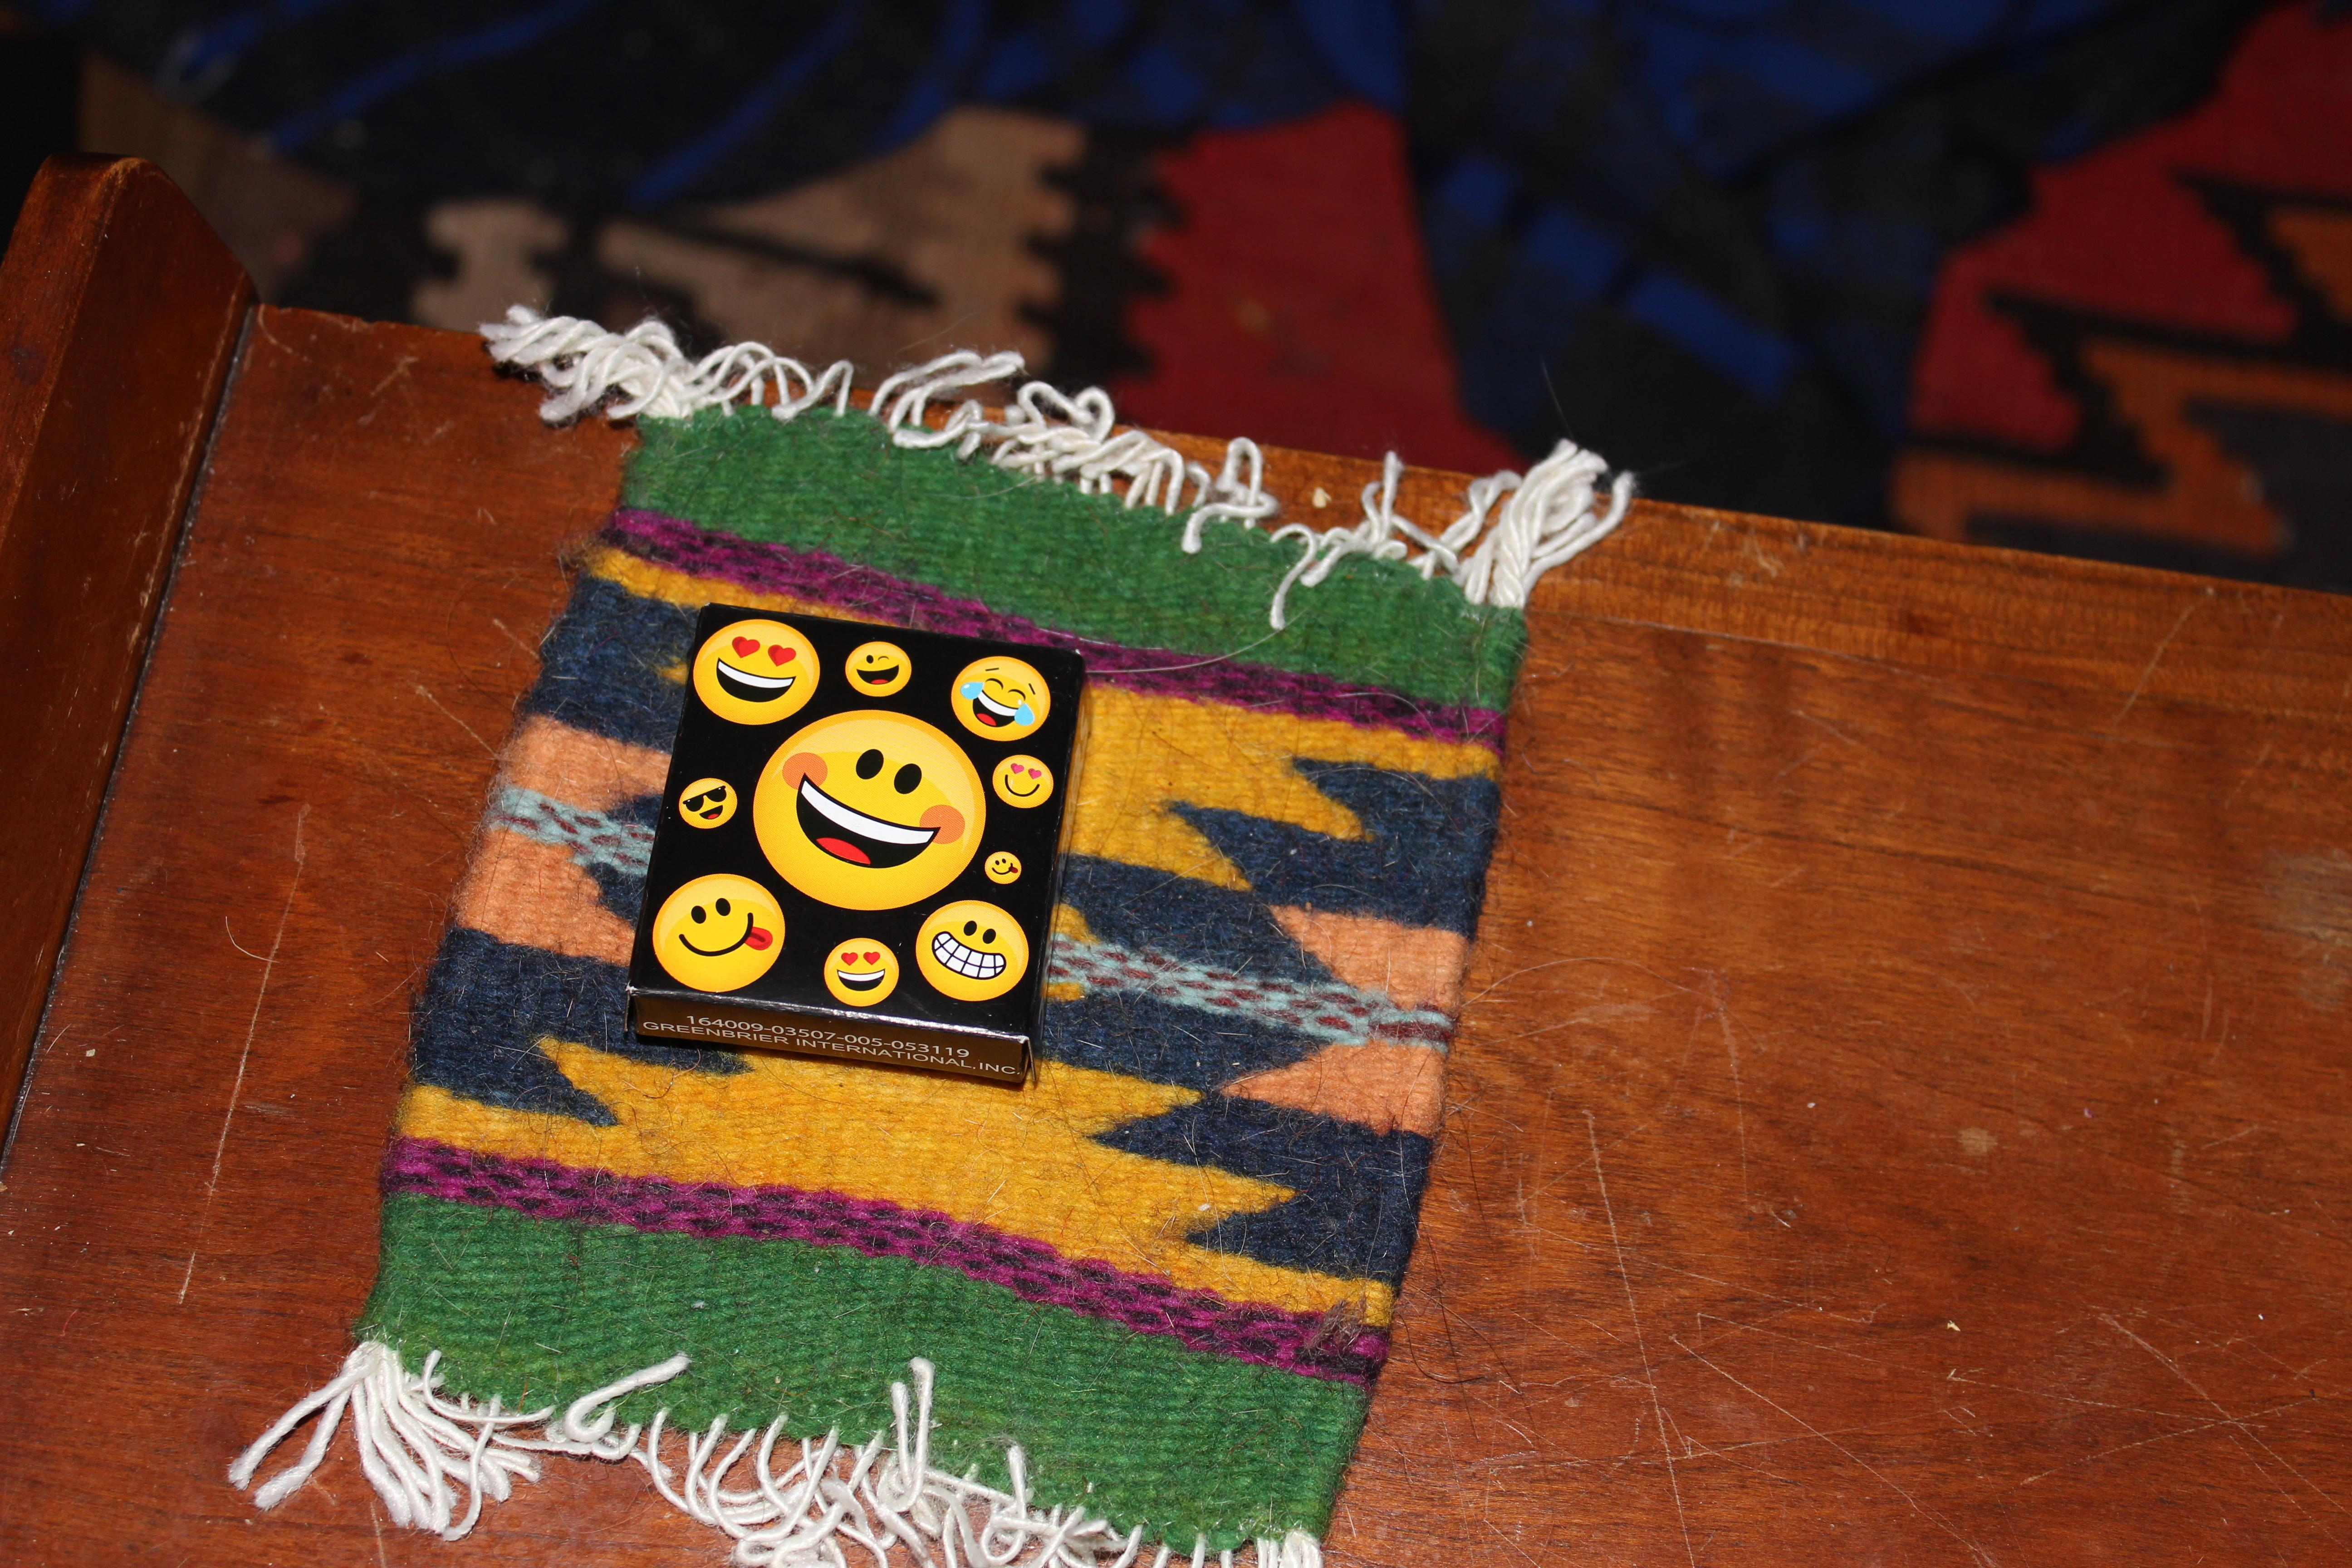stickerBox: (593, 572, 1115, 1123)
